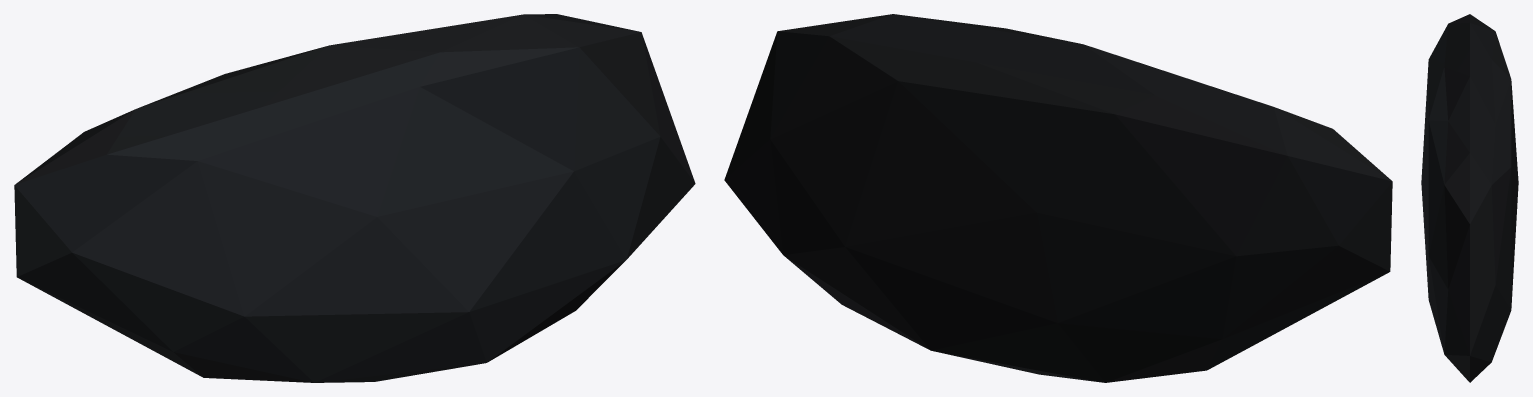
Rendered from Clam.glb.
The picture shows the model from 3 angles, left to right: view 1: azimuth 30°, elevation 25°; view 2: azimuth 150°, elevation 25°; view 3: azimuth 270°, elevation 25°; orthographic projection. The views are drawn at different scales.
Visible parts, largest first — view 1: Clam; view 2: Clam; view 3: Clam.
Boxes of the visible parts, <box> form: Clam: <box>14,14,695,382</box>; Clam: <box>724,14,1392,382</box>; Clam: <box>1421,14,1518,382</box>.
Bounding box in the file's own units: 0.1302 × 0.0635 × 0.0234.
1 material, 1 textured.
